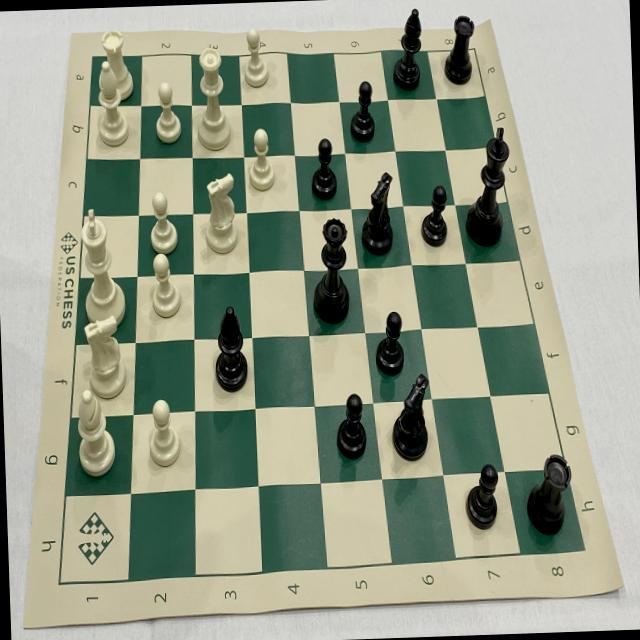black-bishop: (210, 304, 250, 398), (389, 3, 426, 92)
black-king: (461, 120, 514, 252)
black-knight: (389, 368, 433, 466), (358, 168, 398, 258)
black-pawn: (462, 457, 501, 534), (332, 389, 368, 461), (306, 134, 342, 204), (418, 183, 452, 252), (372, 308, 406, 376), (344, 76, 378, 144)
black-queen: (309, 214, 352, 328)
black-rook: (522, 448, 576, 536), (441, 10, 478, 90)
white-bishop: (72, 384, 120, 478), (90, 58, 132, 149)
white-king: (76, 202, 128, 330)
white-knight: (80, 312, 130, 400), (200, 172, 241, 259)
white-pawn: (144, 252, 186, 322), (145, 397, 183, 471), (150, 80, 186, 150), (144, 186, 178, 258), (238, 22, 272, 92), (246, 125, 280, 193)
white-queen: (190, 40, 234, 156)
white-rook: (99, 26, 135, 104)
